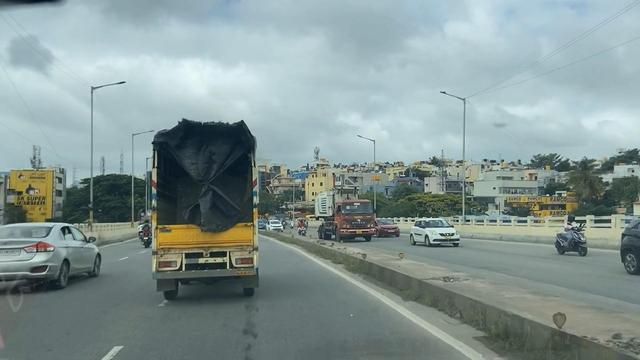HMV: (149, 115, 258, 304), (315, 187, 378, 245)
